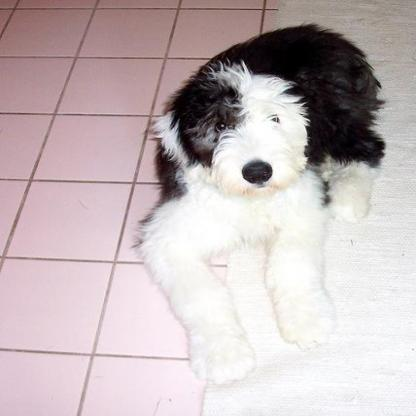Old_English_sheepdog: (131, 22, 385, 380)
